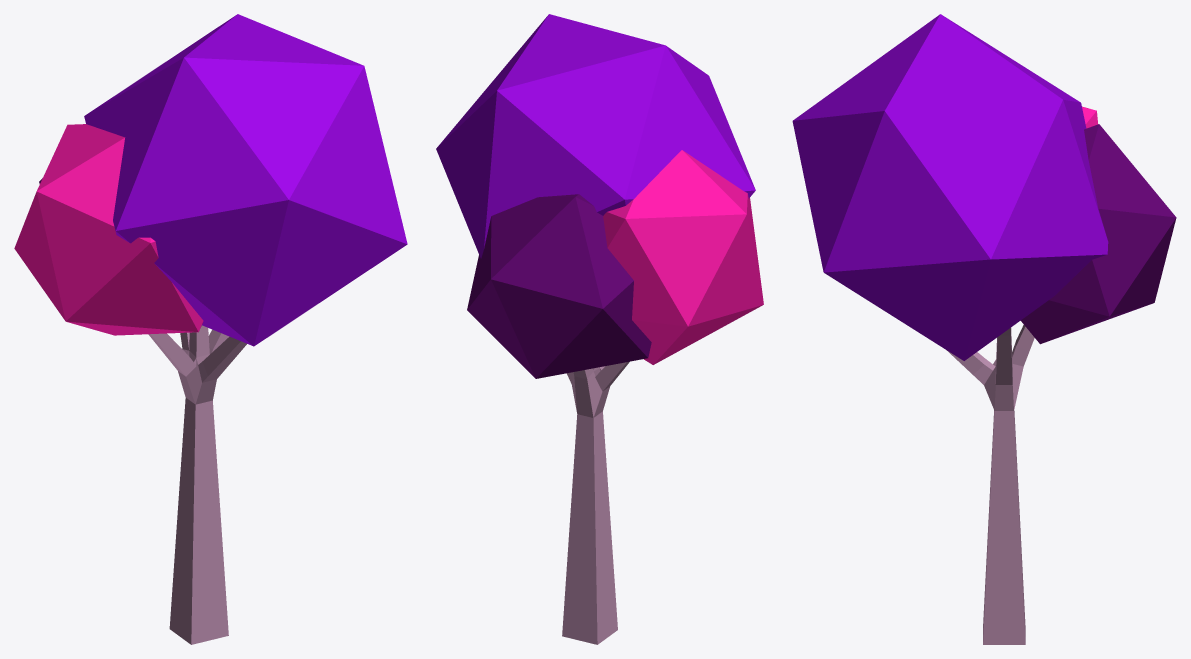
Rendered from new tree5.fbx.
The picture shows the model from 3 angles, left to right: view 1: azimuth 30°, elevation 25°; view 2: azimuth 150°, elevation 25°; view 3: azimuth 270°, elevation 25°; orthographic projection. The views are drawn at different scales.
Parts seen in each view (by area): view 1: Cube; view 2: Cube; view 3: Cube.
Boxes of the visible parts, x1,y1,x2,y2 form: Cube: [14, 14, 407, 644]; Cube: [436, 14, 763, 644]; Cube: [792, 14, 1176, 644].
Size of the model in its own units: 419 by 731 by 425.
